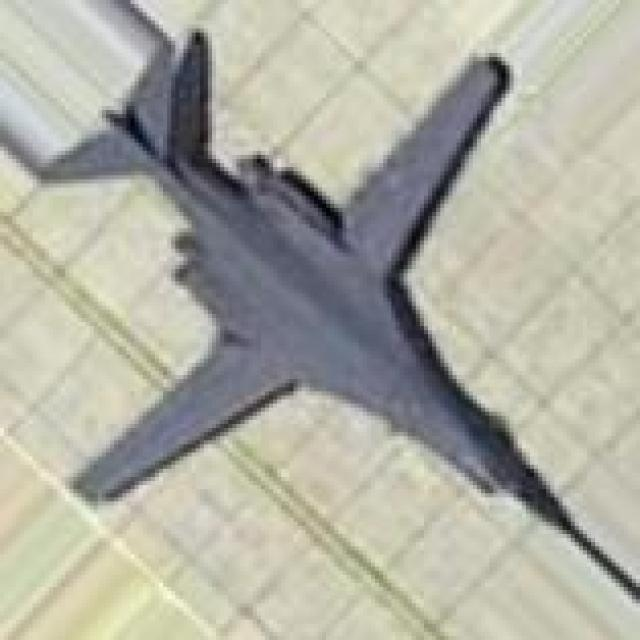B-1_TopDown: (0, 0, 636, 611)
